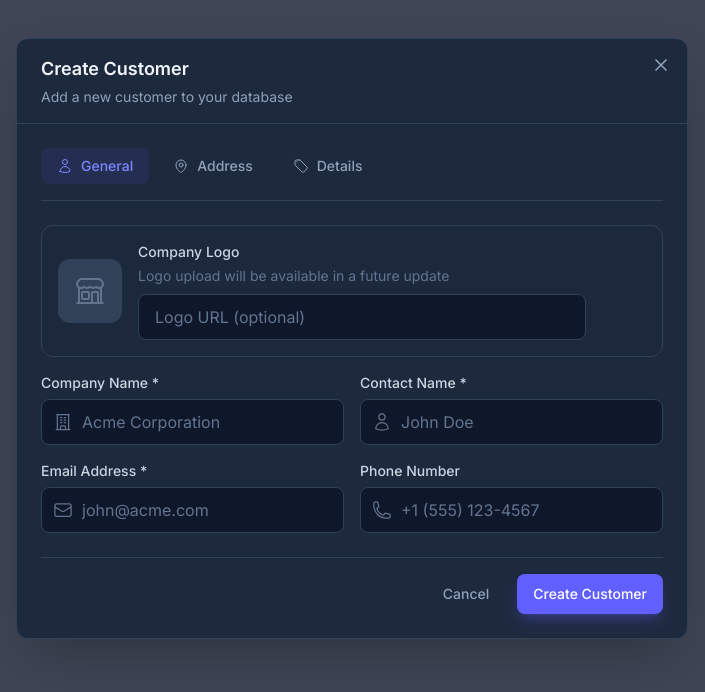
Scenario: CustomerForm › Address tab fields › switches to Address tab when clicked
The width and height of the screenshot is (705, 692).
Click the button "Address".
click(213, 166)  # box [157, 148, 269, 184]
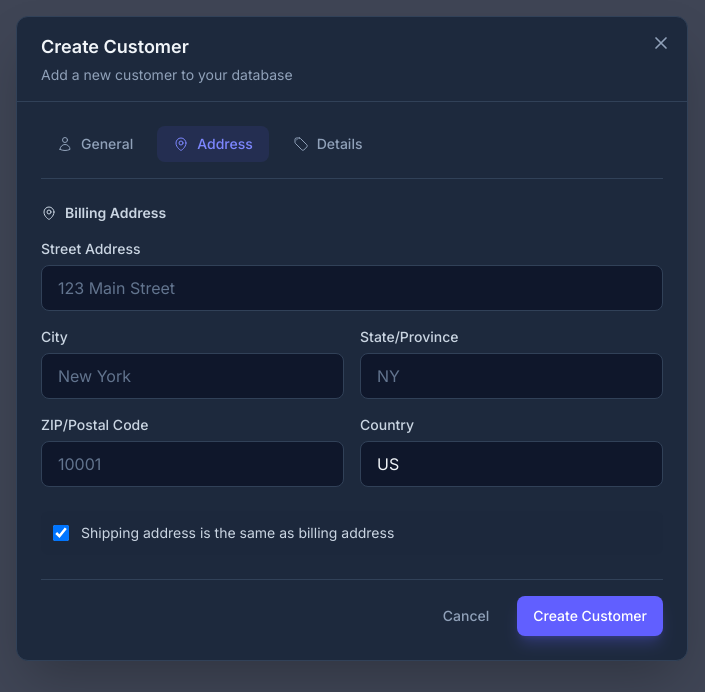
Check: the heading "Billing Address" is shown, box [41, 204, 166, 220]
